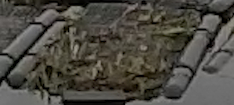bag: (7, 5, 221, 98)
